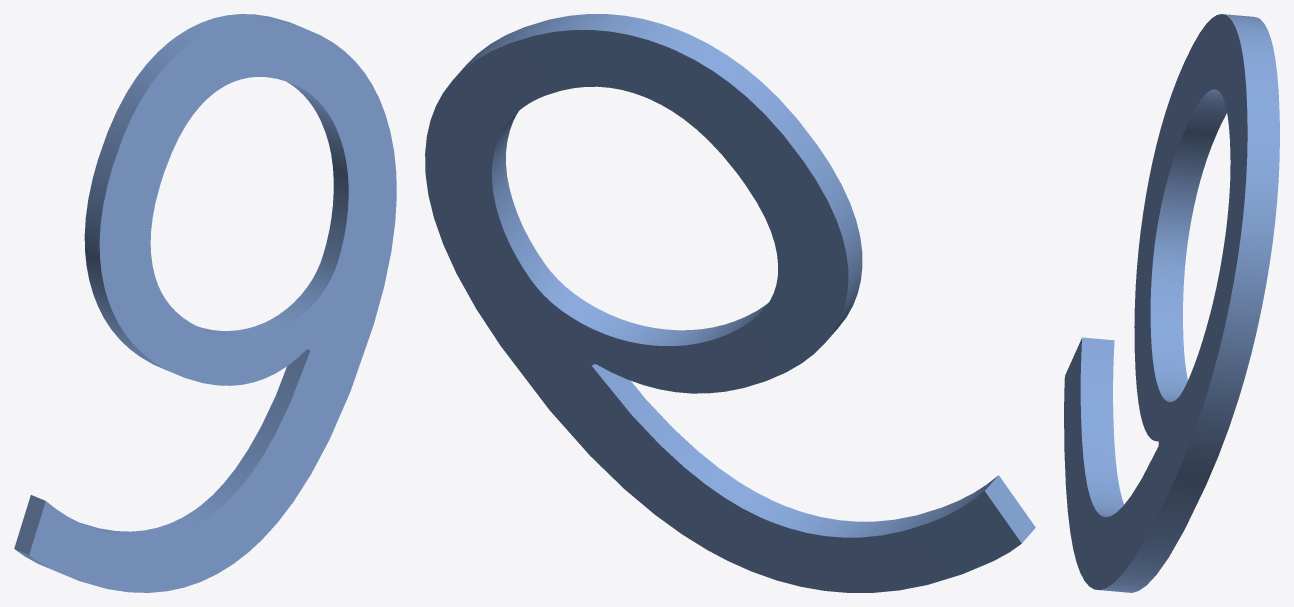
Rendered from Sub_2_Cell_2_3_New_Number_6.gltf.
3 renders of one model, left to right at view 1: azimuth 30°, elevation 25°; view 2: azimuth 150°, elevation 25°; view 3: azimuth 270°, elevation 25°, orthographic. The views are drawn at different scales.
Visible parts, largest first — view 1: Part 141; view 2: Part 141; view 3: Part 141.
Part boxes in pixels (x1,y1,x2,y2): Part 141: (14, 14, 396, 592); Part 141: (425, 14, 1035, 592); Part 141: (1064, 14, 1279, 592).
Bounding box in the file's own units: 0.00474 × 0.00514 × 0.00169.
